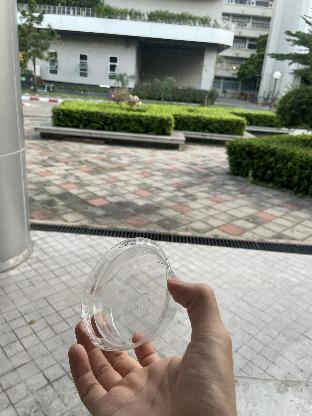Others: (81, 235, 185, 355)
